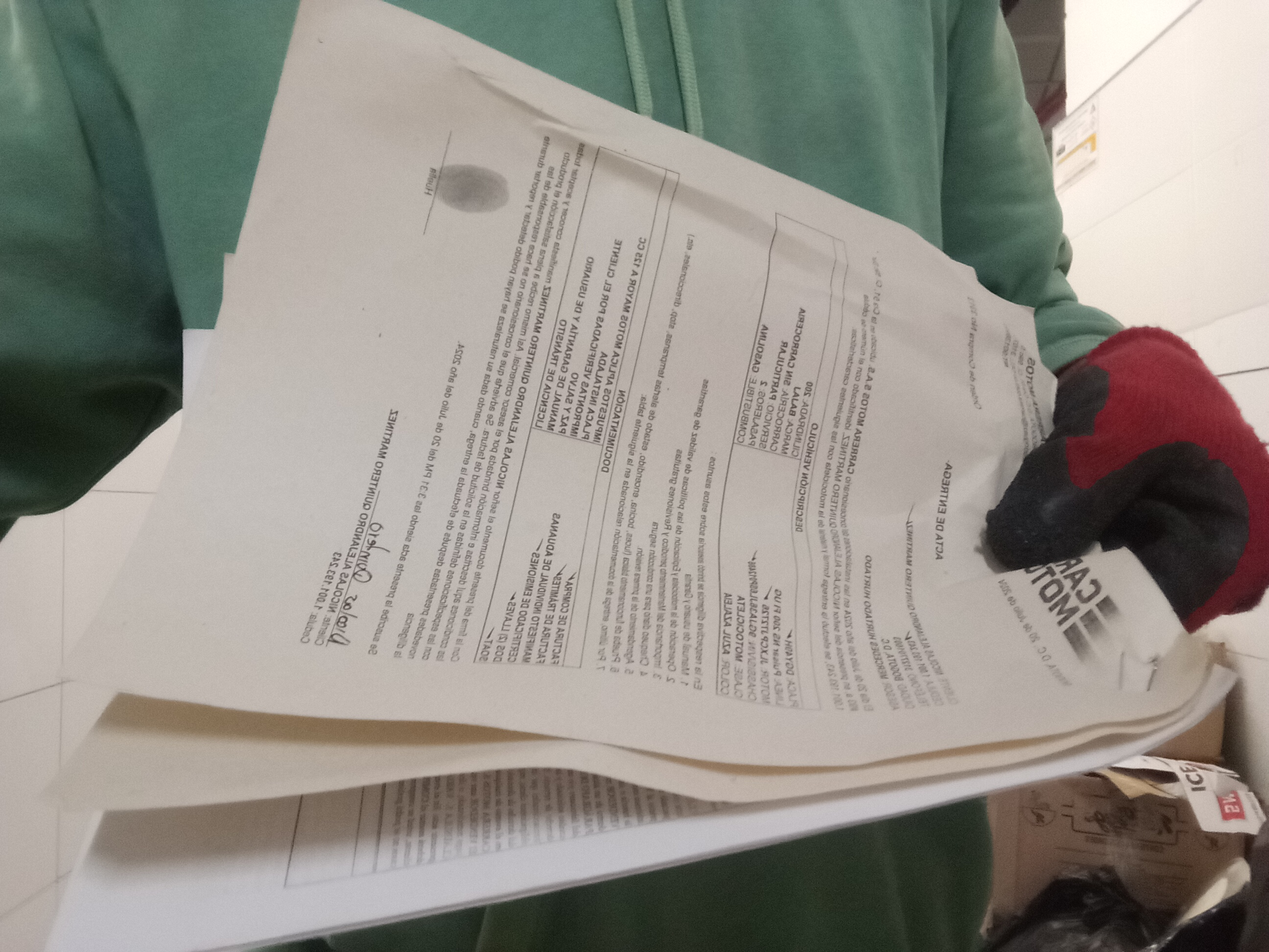Papel: (50, 0, 1241, 952)
